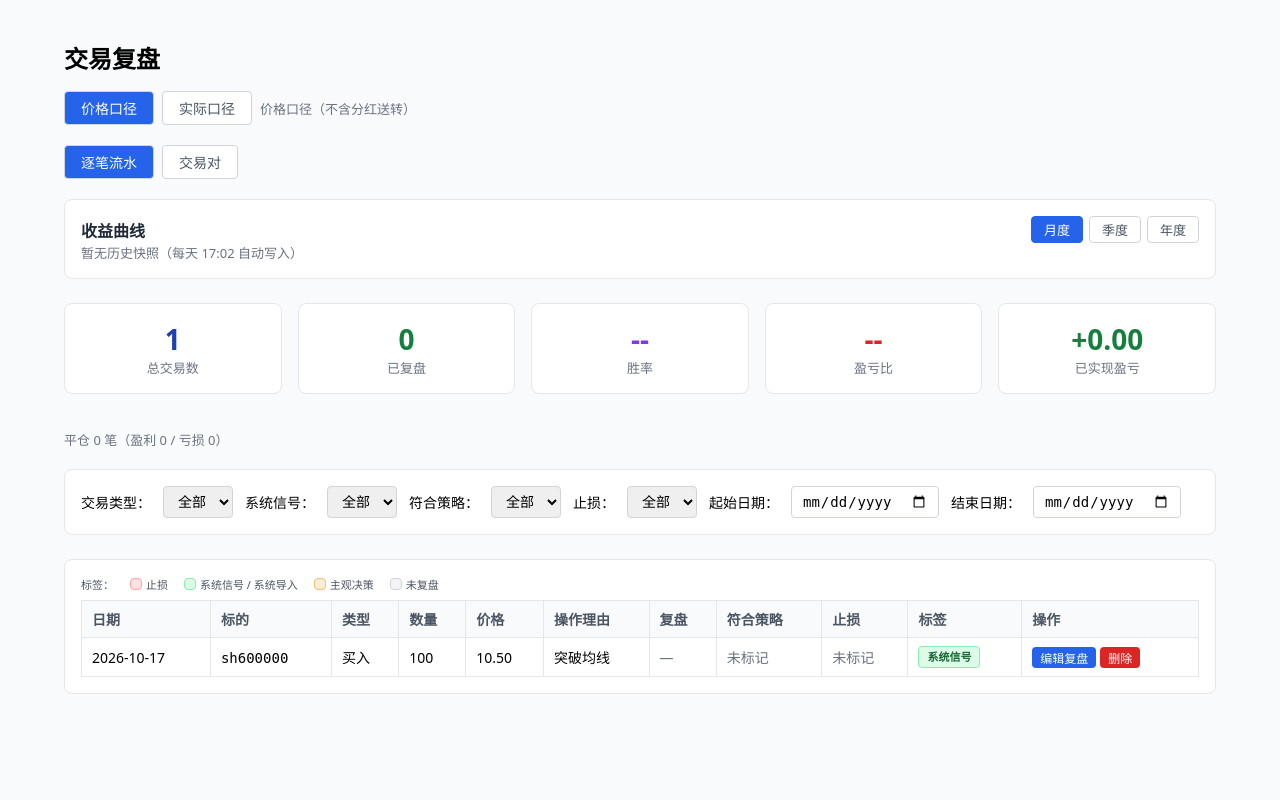
it: Review · 编辑复盘 3 态弹窗 › 点「保存」→ 发出 PATCH /trade/{id}，载荷含 strategy_match=1 / is_stop_loss=0
The image size is (1280, 800).
Step 1. Click the button "编辑复盘" → (1064, 657), box [1032,647,1096,668]
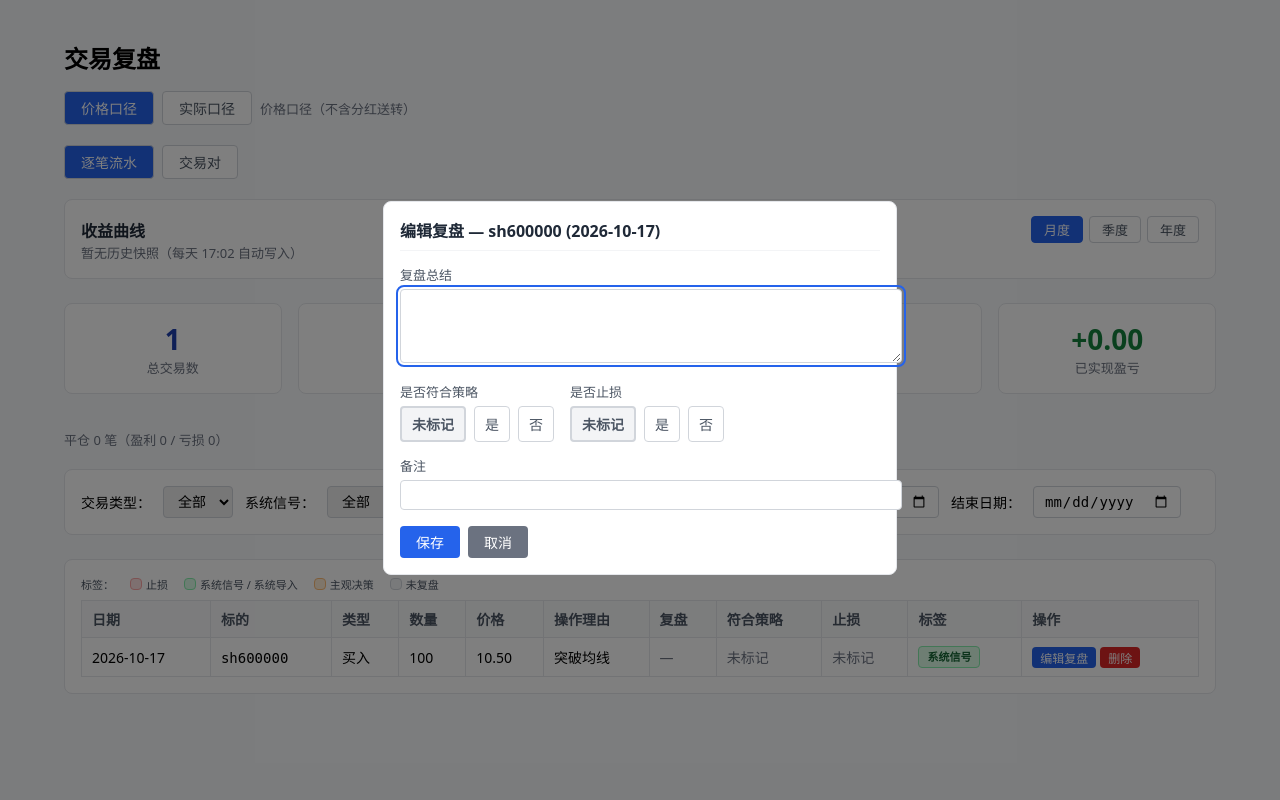
Expected: the text "编辑复盘 — sh600000 (2026-10-17)" is shown, [400,218,880,251]
Step 2. Click the button "是" below "是否符合策略" → (492, 424), box [474,406,510,442]
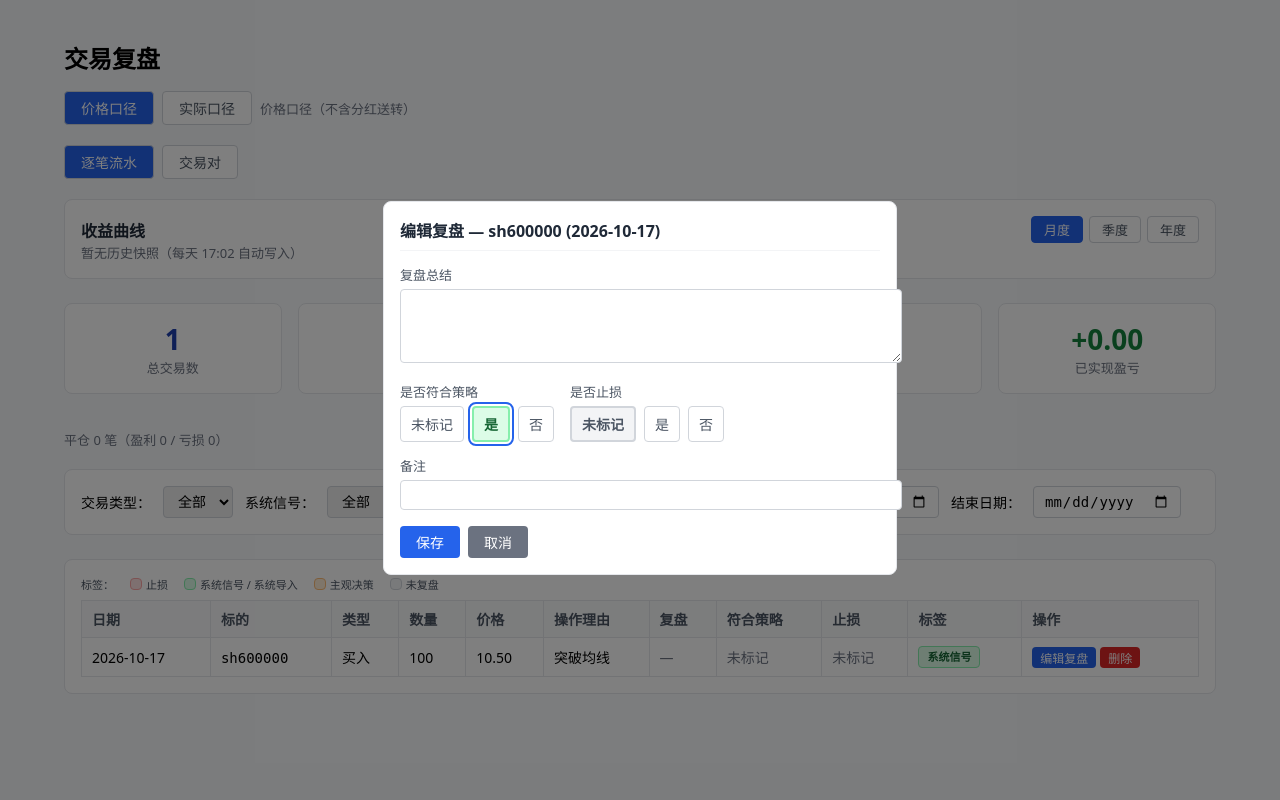
Step 3. Click the button "否" below "是否止损" → (706, 424), box [688,406,724,442]
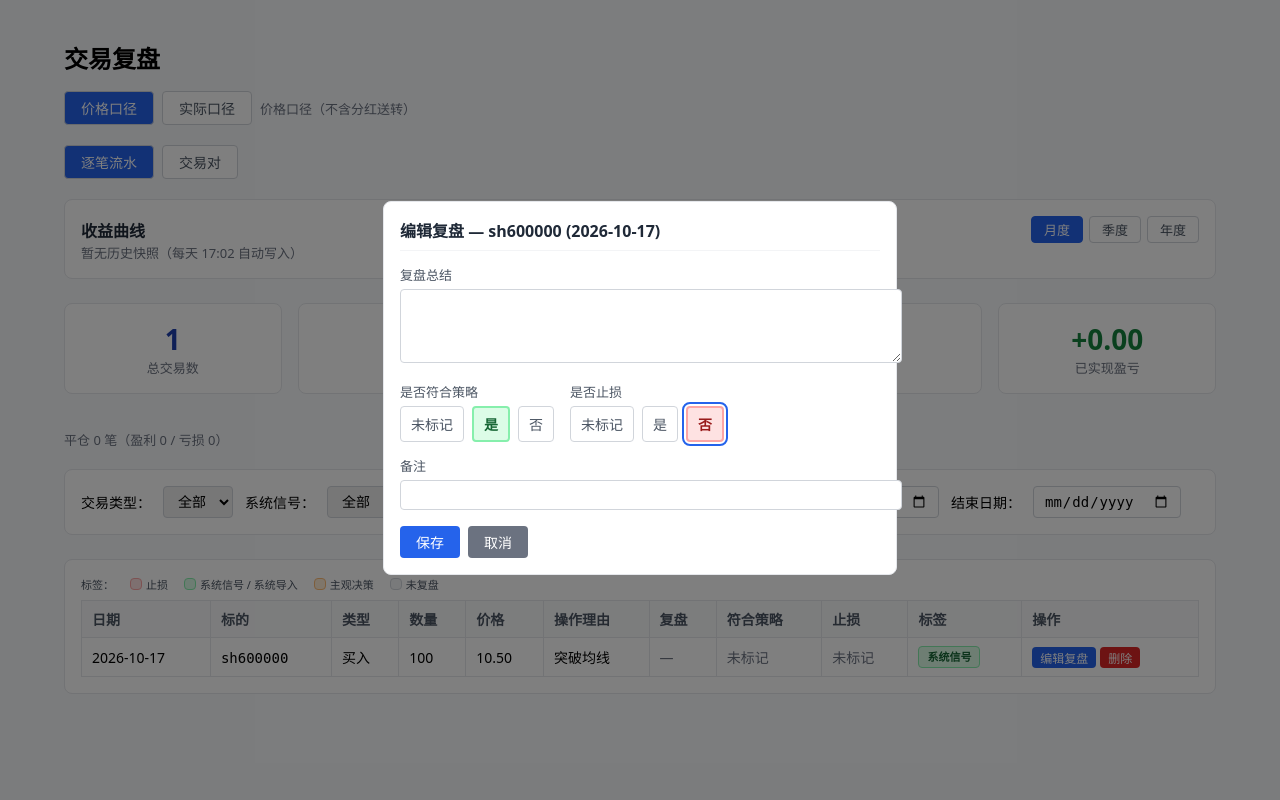
Step 4. Click the button "保存" → (430, 542), box [400,526,460,558]
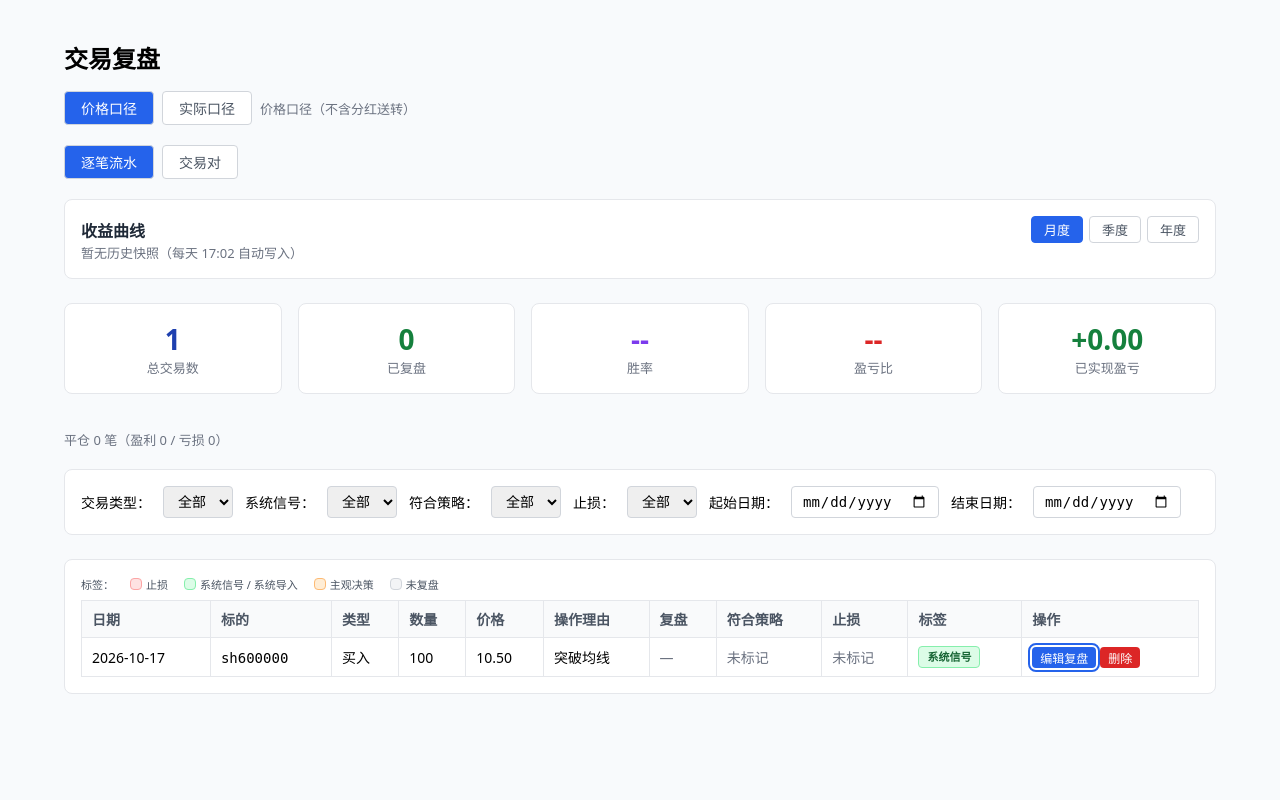
Expected: the text "编辑复盘 — " is gone
